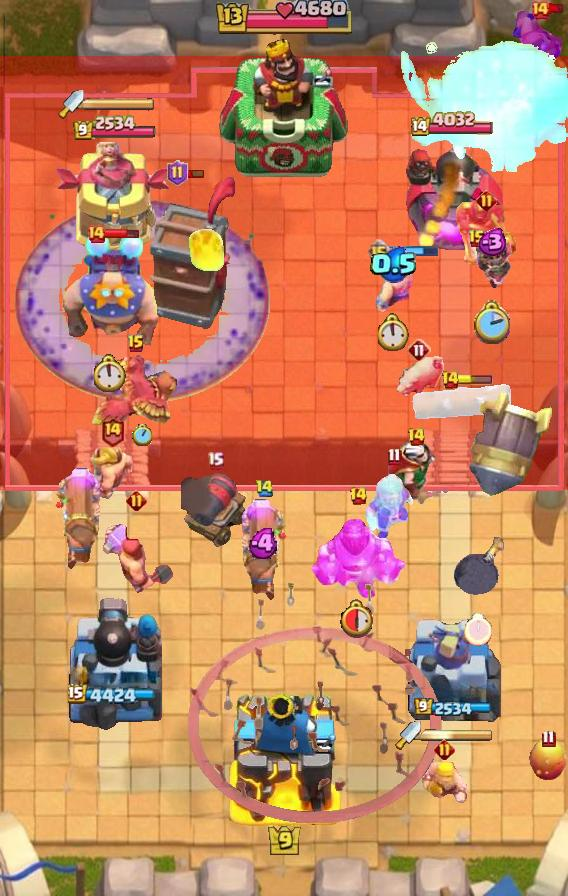archer: (421, 762, 467, 804)
baby-dragon: (452, 535, 503, 597)
bar: (55, 142, 173, 256), (405, 611, 501, 731)
battle-healer: (55, 468, 101, 572), (241, 499, 287, 603)
bomber-evolution: (467, 235, 517, 297)
clock: (213, 0, 355, 38)
dart-goblin: (148, 175, 238, 331)
electro-spirit: (370, 245, 418, 283), (248, 529, 281, 560), (474, 228, 508, 256)
elixir: (472, 300, 510, 344), (340, 598, 377, 638), (93, 354, 127, 392), (378, 313, 410, 351), (464, 614, 492, 646), (132, 424, 152, 446)
emote: (387, 245, 439, 257), (104, 228, 140, 241), (457, 375, 493, 385), (185, 168, 205, 179), (547, 3, 564, 14)
fireball: (508, 11, 568, 99)
freeze: (454, 200, 518, 268)
giant: (393, 350, 445, 400)
goblin-giant: (89, 446, 135, 500), (372, 256, 416, 312)
hog: (528, 738, 568, 782)
king-tower: (218, 37, 350, 181), (226, 688, 342, 826)
king-tower-bar: (84, 97, 156, 111), (421, 728, 493, 742)
little-prince: (57, 232, 163, 354)
mega-knight: (380, 24, 568, 198)
mighty-miner: (99, 516, 173, 598)
minion: (411, 379, 513, 423)
mortar: (364, 471, 424, 545)
mother-witch: (88, 356, 184, 432)
rocket: (14, 199, 270, 403)
royal-giant-evolution: (181, 473, 249, 547)
royal-guardian: (309, 507, 407, 601)
selected: (412, 111, 497, 139), (71, 114, 156, 141), (68, 685, 160, 708), (414, 698, 492, 718)
skeleton-barrel: (187, 580, 441, 824)
skeleton-king: (379, 438, 453, 508)
text: (99, 417, 124, 448), (407, 338, 431, 362), (367, 238, 390, 262), (167, 160, 188, 186), (476, 189, 497, 210), (126, 490, 147, 511), (433, 740, 454, 761), (530, 0, 550, 20), (86, 224, 106, 244), (440, 370, 459, 390), (406, 427, 425, 447), (349, 486, 368, 506), (468, 229, 486, 249), (127, 334, 145, 354), (255, 479, 274, 497), (208, 451, 225, 469), (541, 729, 556, 748), (387, 447, 401, 466)
tower-bar: (66, 595, 162, 731), (404, 138, 505, 256)
valkyrie: (186, 225, 226, 273)
x-bow: (469, 391, 553, 498)
